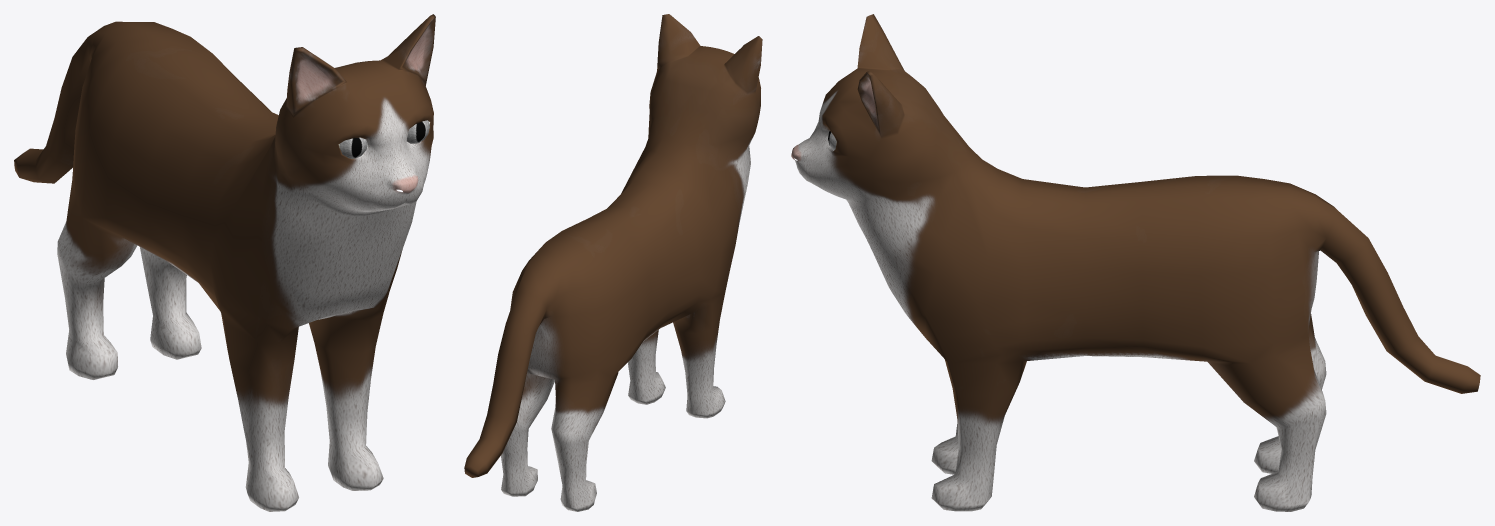
File: cat_BWchocolate.glb
The picture shows the model from 3 angles, left to right: view 1: azimuth 30°, elevation 25°; view 2: azimuth 150°, elevation 25°; view 3: azimuth 270°, elevation 25°; orthographic projection. The views are drawn at different scales.
Visible parts, largest first — view 1: body cat_geo.001, cat_geo eyes.001; view 2: body cat_geo.001; view 3: body cat_geo.001.
Boxes of the visible parts, x1,y1,x2,y2 form: body cat_geo.001: [14, 14, 435, 511]; cat_geo eyes.001: [338, 120, 429, 158]; body cat_geo.001: [464, 14, 762, 511]; body cat_geo.001: [791, 14, 1480, 511].
Bounding box in the file's own units: 1572 × 5053 × 7130.
2 materials, 2 textured.
